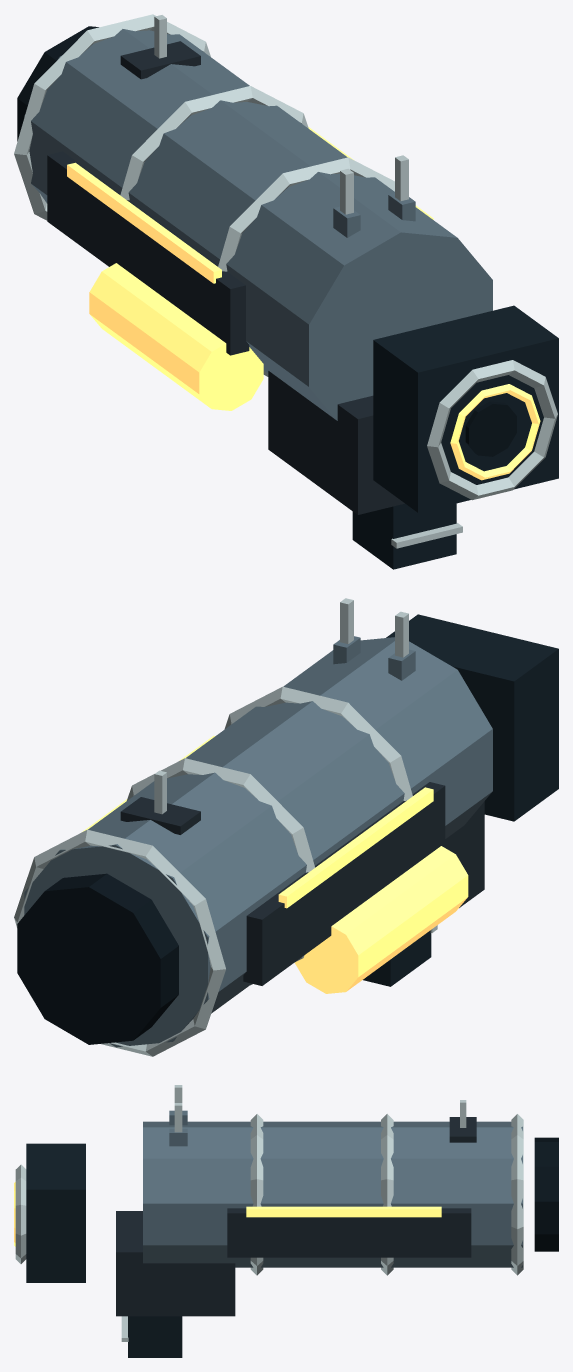
The model's file is world-1.glb.
3 views of the same model, one above another, from view 1: azimuth 30°, elevation 25°; view 2: azimuth 150°, elevation 25°; view 3: azimuth 270°, elevation 25° (orthographic). The views are drawn at different scales.
Parts seen in each view (by area): view 1: body-light, body-rubber, body-dark, body-trim, feed-glow, body-glow, body-cavity; view 2: body-light, body-cavity, body-rubber, body-dark, body-trim, feed-glow, body-glow; view 3: body-light, body-dark, body-rubber, body-trim, body-cavity, body-glow.
Boxes of the visible parts, x1=… form: body-light: x1=24, y1=29, x2=492, y2=420; body-rubber: x1=352, y1=305, x2=558, y2=569; body-dark: x1=47, y1=41, x2=404, y2=514; body-trim: x1=14, y1=14, x2=557, y2=548; feed-glow: x1=89, y1=263, x2=263, y2=410; body-glow: x1=67, y1=126, x2=540, y2=480; body-cavity: x1=17, y1=26, x2=516, y2=456; body-light: x1=24, y1=636, x2=492, y2=1047; body-cavity: x1=17, y1=873, x2=178, y2=1044; body-rubber: x1=363, y1=614, x2=558, y2=986; body-dark: x1=120, y1=782, x2=484, y2=985; body-trim: x1=14, y1=598, x2=437, y2=1056; feed-glow: x1=294, y1=846, x2=468, y2=993; body-glow: x1=82, y1=735, x2=433, y2=908; body-light: x1=143, y1=1110, x2=522, y2=1267; body-dark: x1=116, y1=1117, x2=476, y2=1316; body-rubber: x1=26, y1=1143, x2=182, y2=1357; body-trim: x1=15, y1=1085, x2=523, y2=1341; body-cavity: x1=534, y1=1137, x2=558, y2=1251; body-glow: x1=14, y1=1182, x2=441, y2=1246.
Bounding box in the file's own units: 0.3467 × 0.5045 × 1.
